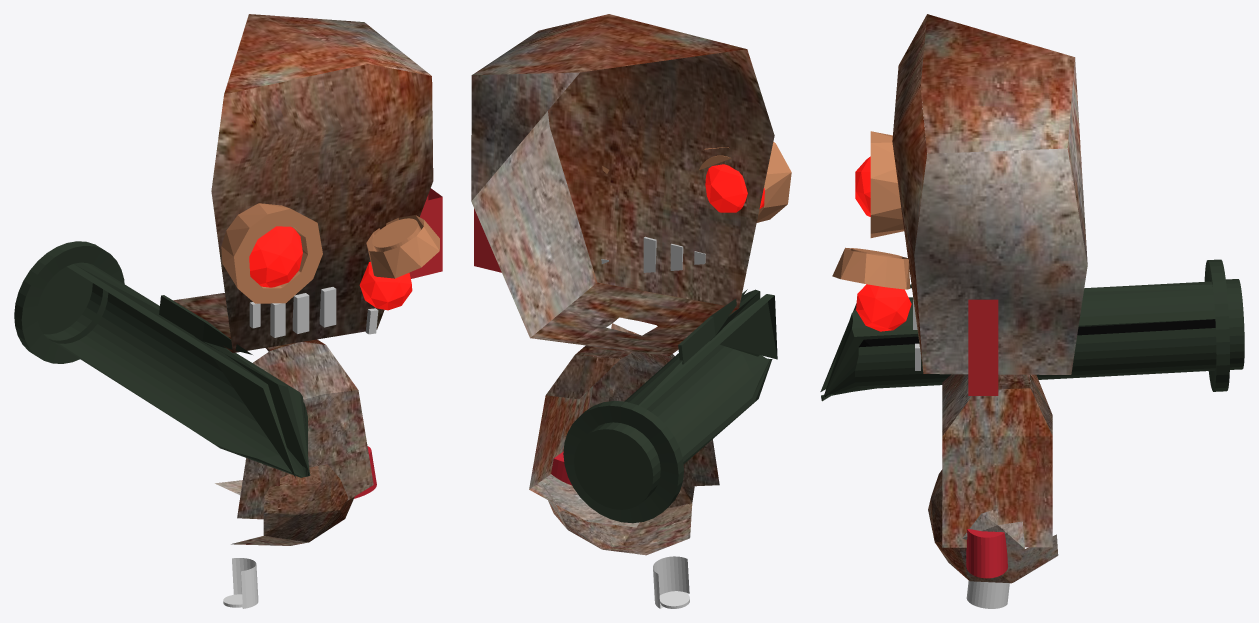
Rendered from RobotVida3.fbx.
3 renders of one model, left to right at view 1: azimuth 30°, elevation 25°; view 2: azimuth 150°, elevation 25°; view 3: azimuth 270°, elevation 25°, orthographic. The views are drawn at different scales.
Parts seen in each view (by area): view 1: kaf, BAZOOKA, Cube.001, Sphere, Cylinder.006, Cylinder.007, Sphere.001, Sphere.002, Cylinder.001, kadis.006, kadis, kadis.001; view 2: kaf, BAZOOKA, Cube.001, Sphere, Cylinder.006, Cylinder.001, Sphere.001, kadis.006, kadis.001; view 3: kaf, BAZOOKA, Cube.001, Sphere, kadis.006, Cylinder.006, Cylinder.007, Sphere.002, Cylinder.003, Cylinder.001, Sphere.001.
Part boxes in pixels (x1,y1,x2,y2): kaf: (173,14,433,352); BAZOOKA: (14,241,310,477); Cube.001: (215,339,373,519); Sphere: (231,464,354,545); Cylinder.006: (221,203,322,303); Cylinder.007: (366,215,439,278); Sphere.001: (249,226,302,287); Sphere.002: (359,261,412,310); Cylinder.001: (223,558,258,608); kadis.006: (409,188,442,278); kadis: (292,293,309,333); kadis.001: (319,287,336,327); kaf: (471,14,774,357); BAZOOKA: (563,289,777,523); Cube.001: (529,345,719,527); Sphere: (542,436,694,555); Cylinder.006: (697,142,791,222); Cylinder.001: (653,556,689,608); Sphere.001: (705,164,764,212); kadis.006: (474,208,501,272); kadis.001: (643,236,656,272); kaf: (892,14,1087,374); BAZOOKA: (820,259,1244,401); Cube.001: (942,374,1052,547); Sphere: (928,469,1058,583); kadis.006: (968,299,998,395); Cylinder.006: (870,131,904,237); Cylinder.007: (832,247,910,289); Sphere.002: (856,284,911,331); Cylinder.003: (966,529,1007,578); Cylinder.001: (966,581,1009,608); Sphere.001: (855,156,870,216).
Bounding box in the file's own units: 207 × 350 × 236.
